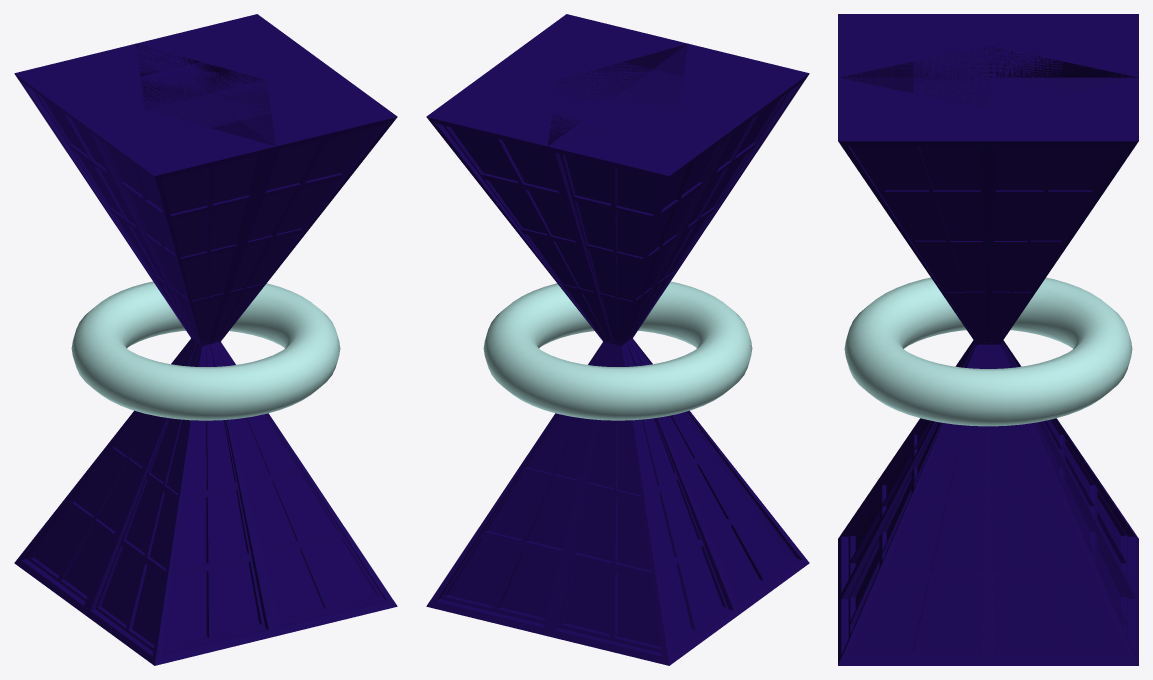
Rendered from TimeMachine.fbx.
The picture shows the model from 3 angles, left to right: view 1: azimuth 30°, elevation 25°; view 2: azimuth 150°, elevation 25°; view 3: azimuth 270°, elevation 25°; orthographic projection. The views are drawn at different scales.
Parts seen in each view (by area): view 1: Cube; view 2: Cube; view 3: Cube.
Part boxes in pixels (x1=…): Cube: x1=14, y1=14, x2=397, y2=665; Cube: x1=426, y1=14, x2=809, y2=665; Cube: x1=838, y1=14, x2=1138, y2=665.
Bounding box in the file's own units: 522 × 1005 × 522.
